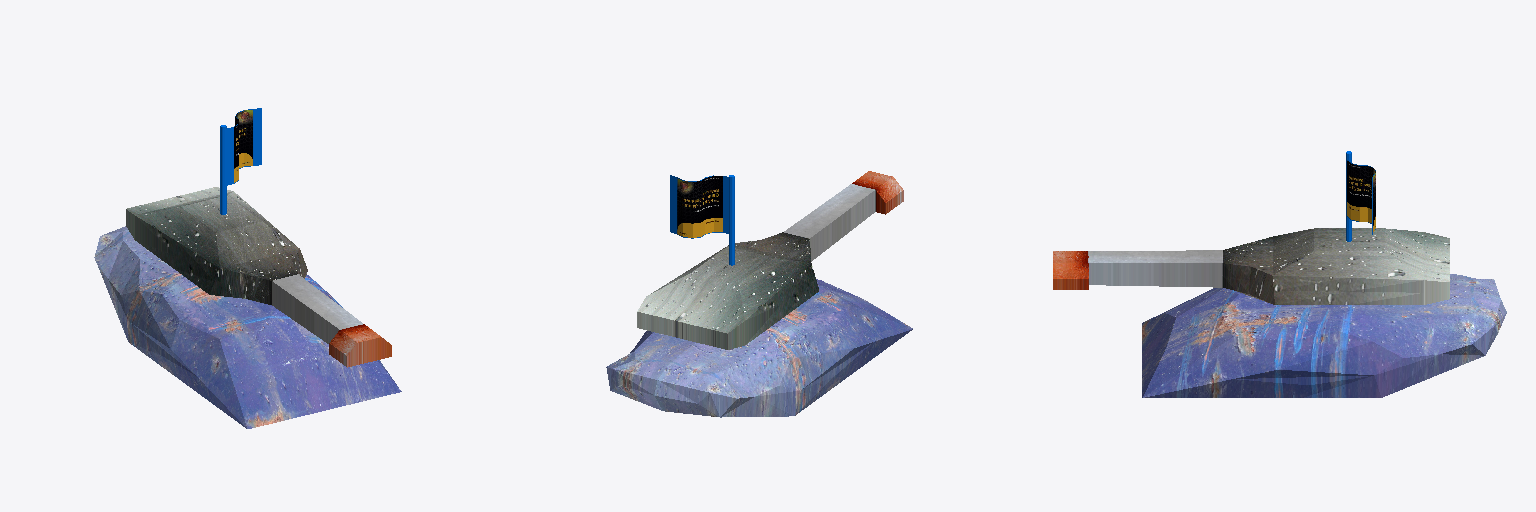
3 views of the same model, side by side, from view 1: azimuth 30°, elevation 25°; view 2: azimuth 150°, elevation 25°; view 3: azimuth 270°, elevation 25° (orthographic).
Bounding box in the file's own units: 1.79 × 2.07 × 4.09.
Materials: 3 (3 with a texture image).